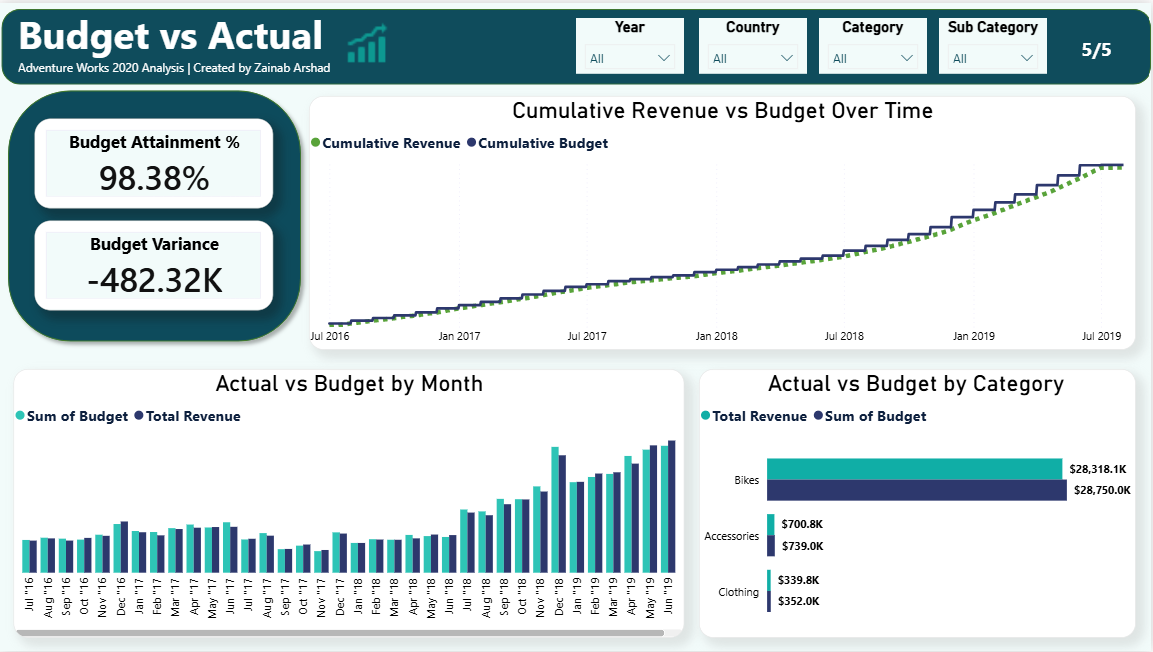

The page's visual inventory and layout, read from the dashboard file:
{"tool":"powerbi","page":{"name":"Budget vs Actual","canvas":[1280,720],"ordinal":4},"visuals":[{"type":"shape","box":[0,88.3,343.3,296.7],"z":0},{"type":"clusteredColumnChart","title":"Actual vs Budget by Month","fields":{"Y":["Sum(Budget.Budget)","Sales.Total Revenue"],"Category":["Calendar.MonthYearShort"]},"box":[15,406.7,745,298.3],"z":1000},{"type":"cardVisual","fields":{"Data":["Sales.Budget Attainment %"]},"box":[38.3,128,265,100],"z":2000},{"type":"clusteredBarChart","title":"Actual vs Budget by Category","fields":{"Category":["Products.Category"],"Y":["Sales.Total Revenue","Sum(Budget.Budget)"]},"box":[776.7,406.7,485,298.3],"z":3000},{"type":"lineChart","title":"Cumulative Revenue vs Budget Over Time","fields":{"Category":["Calendar.Date"],"Y":["Sales.Cumulative Revenue","Budget.Cumulative Budget"]},"box":[343.3,103.3,918.3,281.7],"z":4000},{"type":"shape","box":[1,7,1278.3,84],"z":5000},{"type":"slicer","title":"Year","fields":{"Values":["Calendar.CalendarYear"]},"box":[640,16.7,120,61.7],"z":6000},{"type":"slicer","title":"Sub Category","fields":{"Values":["Products.SubCategory"]},"box":[1043.3,16.7,120,61.7],"z":7000},{"type":"slicer","title":"Category","fields":{"Values":["Products.Category"]},"box":[910,16.7,120,61.7],"z":8000},{"type":"slicer","title":"Country","fields":{"Values":["Territory.Country"]},"box":[776.7,16.7,120,61.7],"z":9000},{"type":"textbox","box":[1196,30,81.7,48.3],"z":10000},{"type":"textbox","box":[15,0,1258.3,130],"z":11000},{"type":"image","box":[375,16.7,65,56.7],"z":12000},{"type":"cardVisual","fields":{"Data":["Sales.Budget Variance"]},"box":[38.3,242,265,100],"z":13000}]}

Visuals, with their boxes in screenshot pixels (x1, y1, x2, y2), scaled from the page's 1280x720 canvas onto the 1153x652 screenshot:
shape: pyautogui.locateOnScreen(0, 80, 309, 349)
"Actual vs Budget by Month" clusteredColumnChart: pyautogui.locateOnScreen(14, 368, 685, 638)
cardVisual - Sales.Budget Attainment %: pyautogui.locateOnScreen(34, 116, 273, 206)
"Actual vs Budget by Category" clusteredBarChart: pyautogui.locateOnScreen(700, 368, 1137, 638)
"Cumulative Revenue vs Budget Over Time" lineChart: pyautogui.locateOnScreen(309, 94, 1136, 349)
shape: pyautogui.locateOnScreen(1, 6, 1152, 82)
"Year" slicer: pyautogui.locateOnScreen(576, 15, 685, 71)
"Sub Category" slicer: pyautogui.locateOnScreen(940, 15, 1048, 71)
"Category" slicer: pyautogui.locateOnScreen(820, 15, 928, 71)
"Country" slicer: pyautogui.locateOnScreen(700, 15, 808, 71)
textbox: pyautogui.locateOnScreen(1077, 27, 1151, 71)
textbox: pyautogui.locateOnScreen(14, 0, 1147, 118)
image: pyautogui.locateOnScreen(338, 15, 396, 66)
cardVisual - Sales.Budget Variance: pyautogui.locateOnScreen(34, 219, 273, 310)
